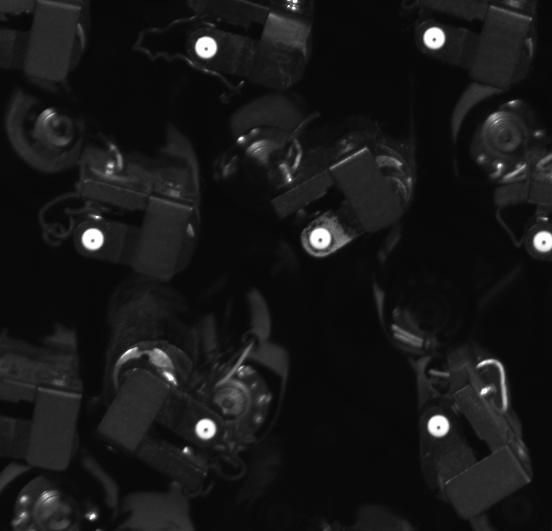fiber: (191, 29, 224, 65), (421, 411, 456, 443), (416, 23, 450, 55), (75, 224, 108, 255), (189, 414, 221, 445), (305, 223, 336, 254), (528, 229, 552, 257)
